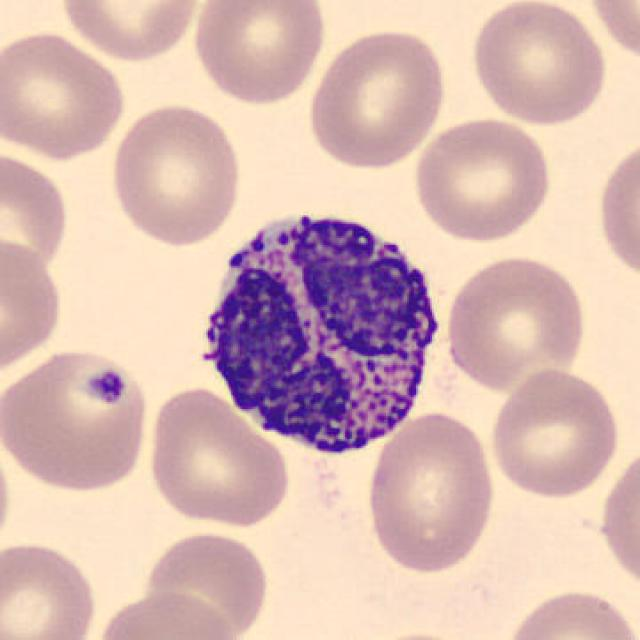Basophil: (183, 194, 452, 467)
Platelets: (74, 356, 132, 414)
RBC: (362, 409, 500, 577), (2, 344, 153, 495), (144, 383, 293, 529), (304, 23, 450, 171), (441, 251, 590, 394), (107, 100, 245, 248), (485, 365, 624, 501), (411, 113, 556, 243), (466, 0, 610, 127), (0, 26, 130, 162), (188, 0, 329, 108), (139, 527, 272, 638), (0, 536, 101, 640), (55, 0, 206, 65), (0, 233, 66, 379), (0, 145, 73, 275), (91, 587, 240, 640), (499, 583, 636, 640), (595, 441, 640, 596), (594, 132, 638, 289), (585, 0, 640, 67), (0, 426, 14, 560), (357, 627, 479, 640)
